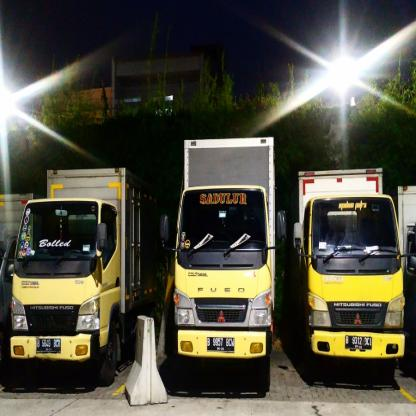truck: (9, 154, 146, 371), (175, 132, 278, 363), (296, 162, 407, 369)
